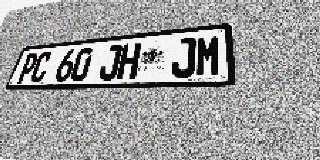0: (69, 47, 94, 82)
6: (53, 49, 78, 82)
C: (28, 51, 53, 83)
H: (116, 42, 142, 80)
J: (170, 37, 196, 78), (97, 44, 123, 81)
M: (195, 35, 221, 77)
P: (15, 53, 40, 83)
